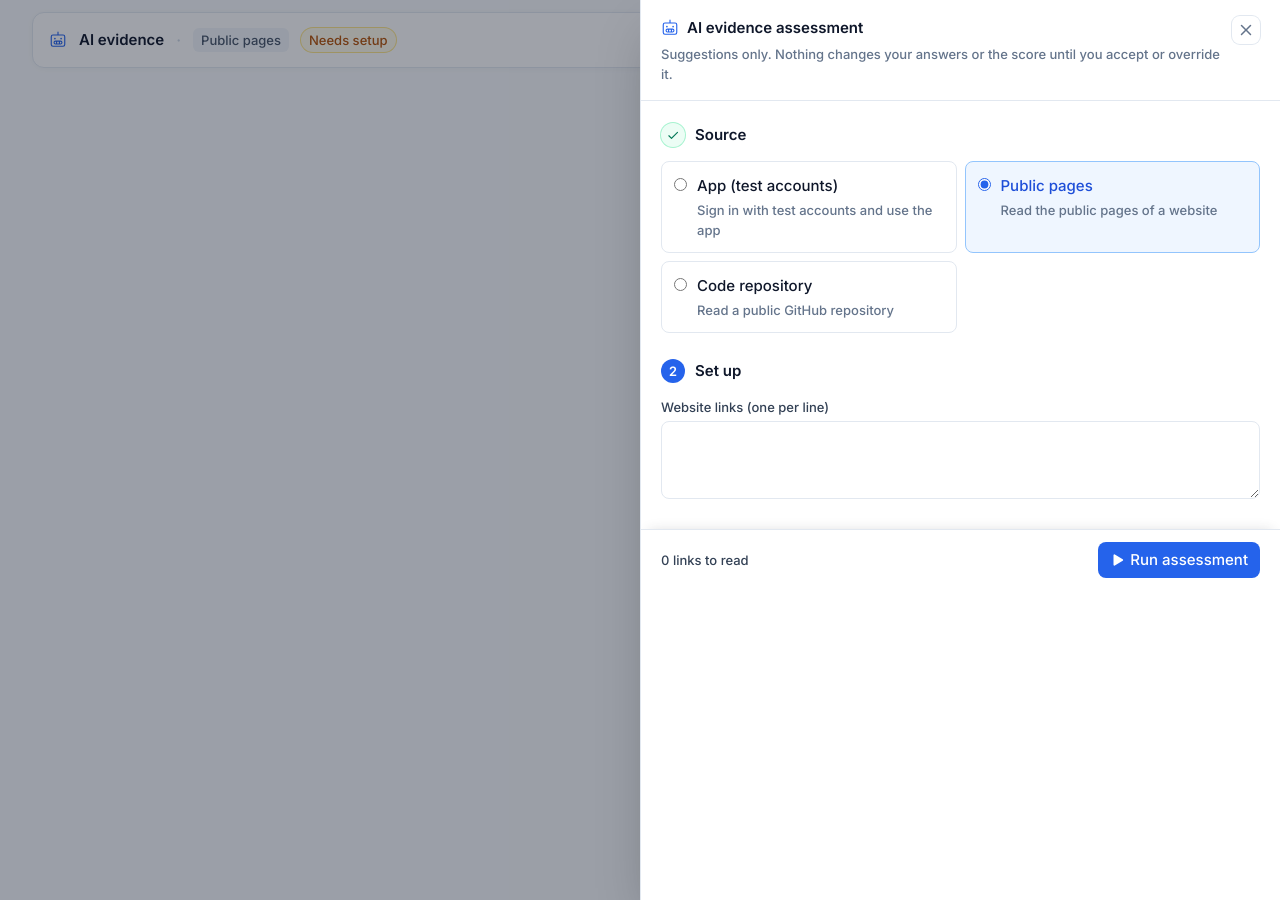
Test: Code repository source in the evidence panel › links the error and the hint to the address field
The width and height of the screenshot is (1280, 900).
Earlier steps of the test are not shown.
Click the radio button labelled "Code repository" at (680, 284), box [674,278,687,291]
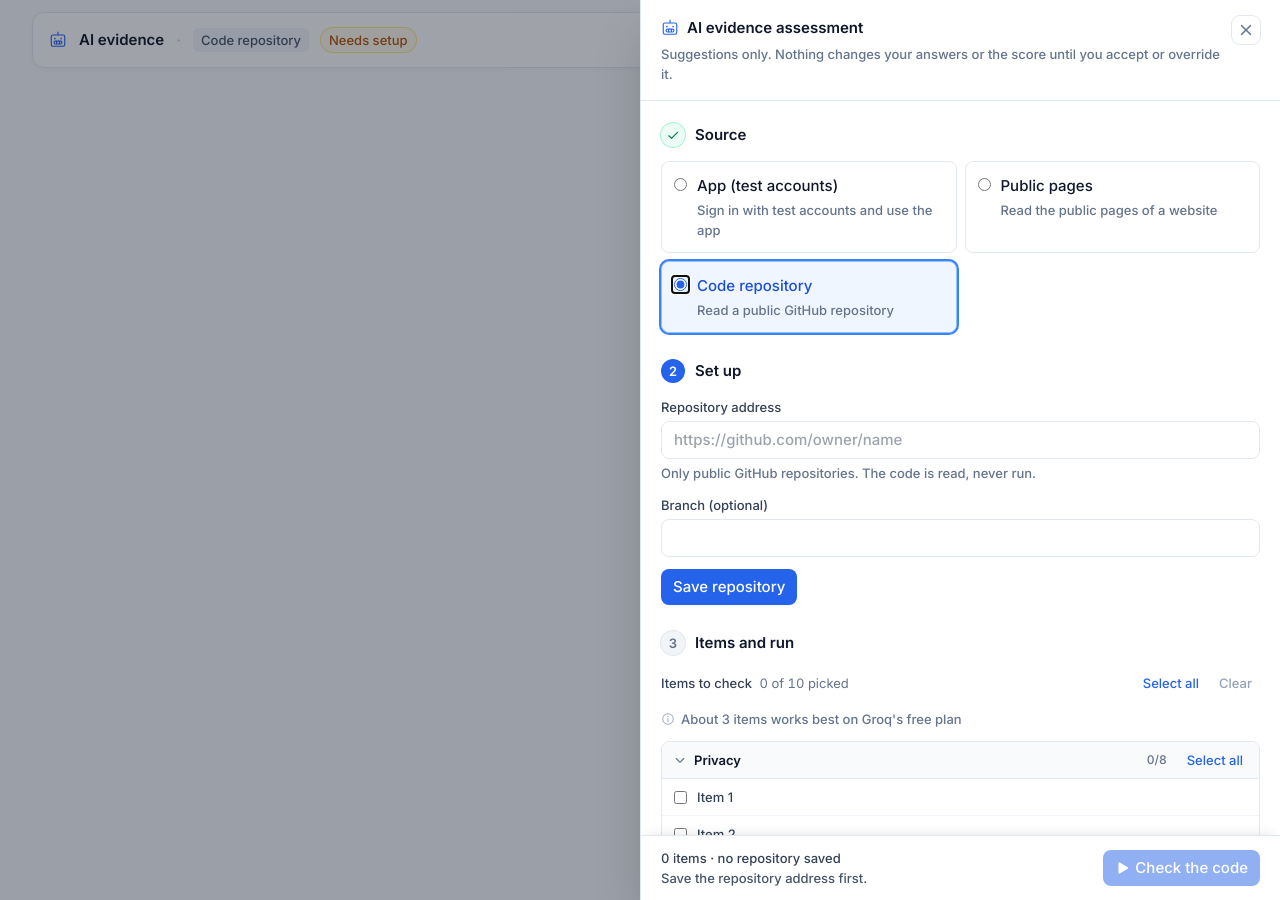
Check: the field labelled "Repository address" is shown, box [661,421,1260,459]
Click the button "Save repository" at (729, 587), box [661,569,797,605]
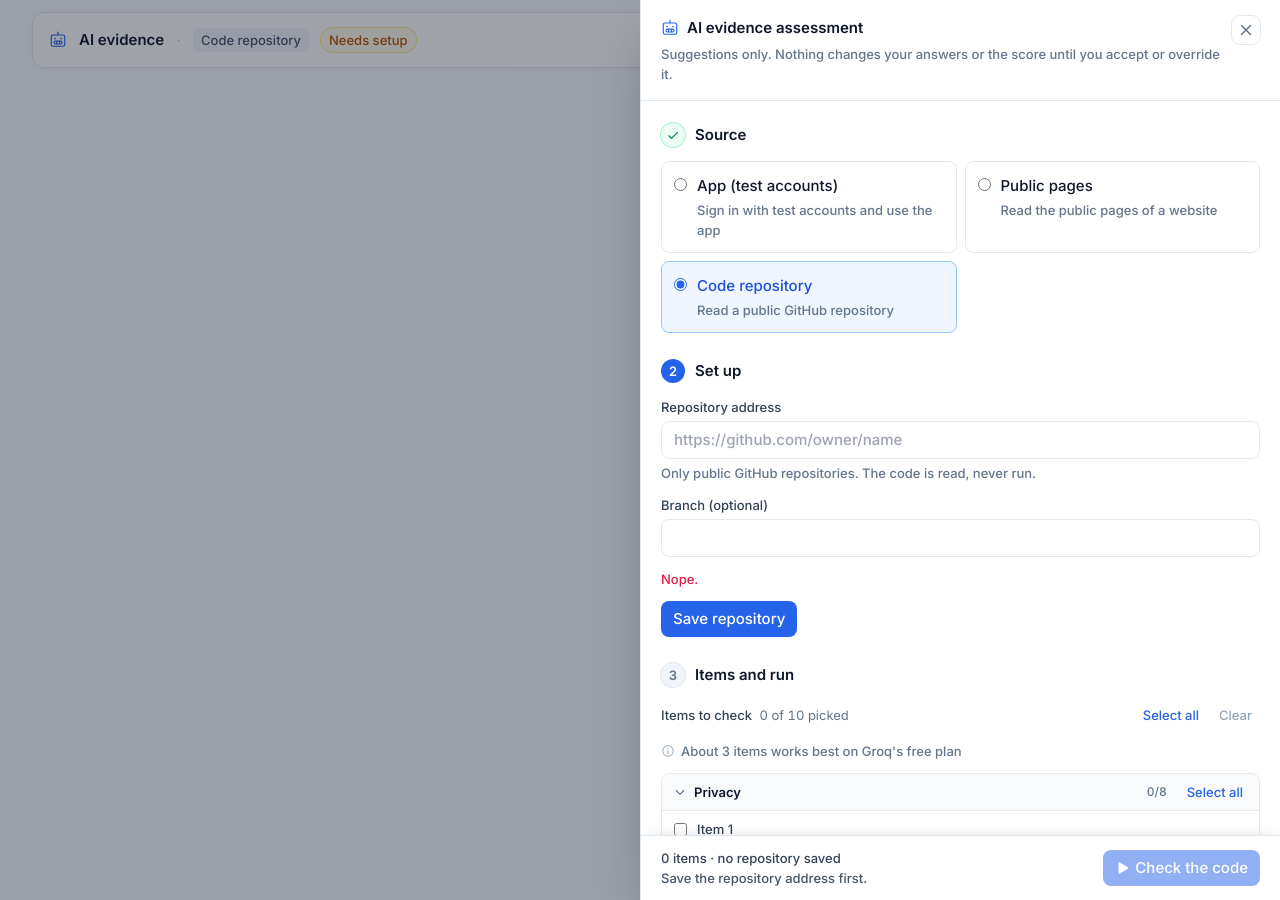
Check: the message "Nope." is shown, box [661,571,698,587]
